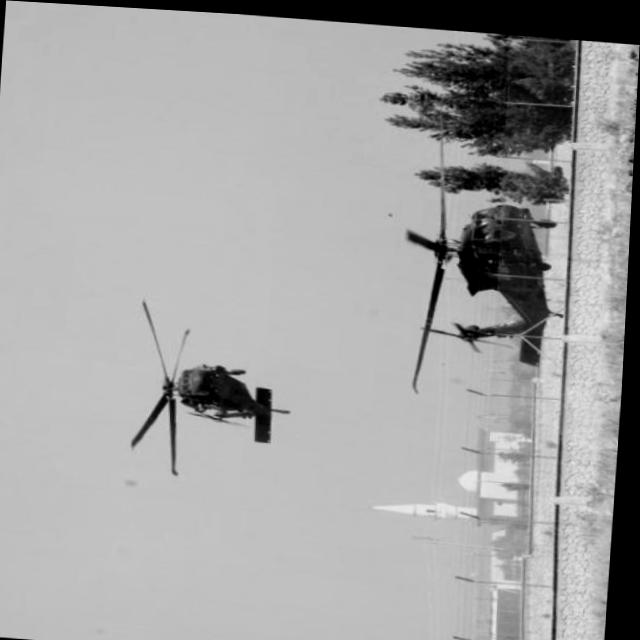helikopter: (387, 110, 575, 398), (117, 284, 310, 487)
